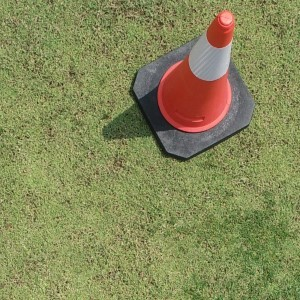traffic cone: (132, 10, 254, 161)
